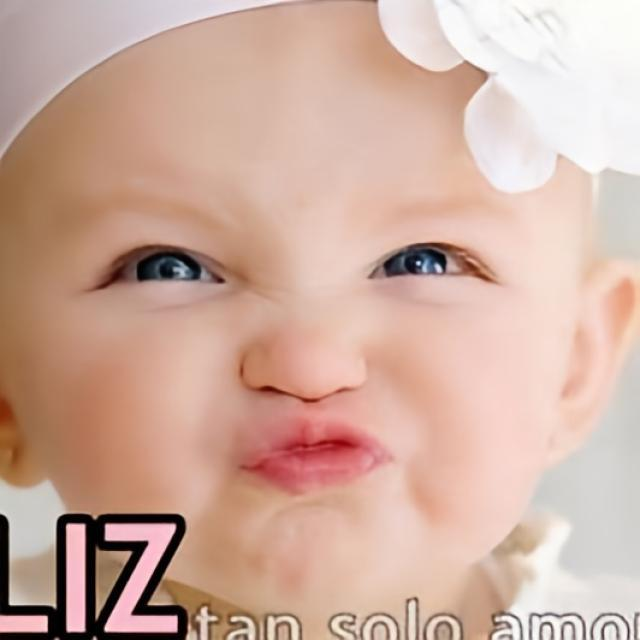disgust: (0, 0, 592, 624)
